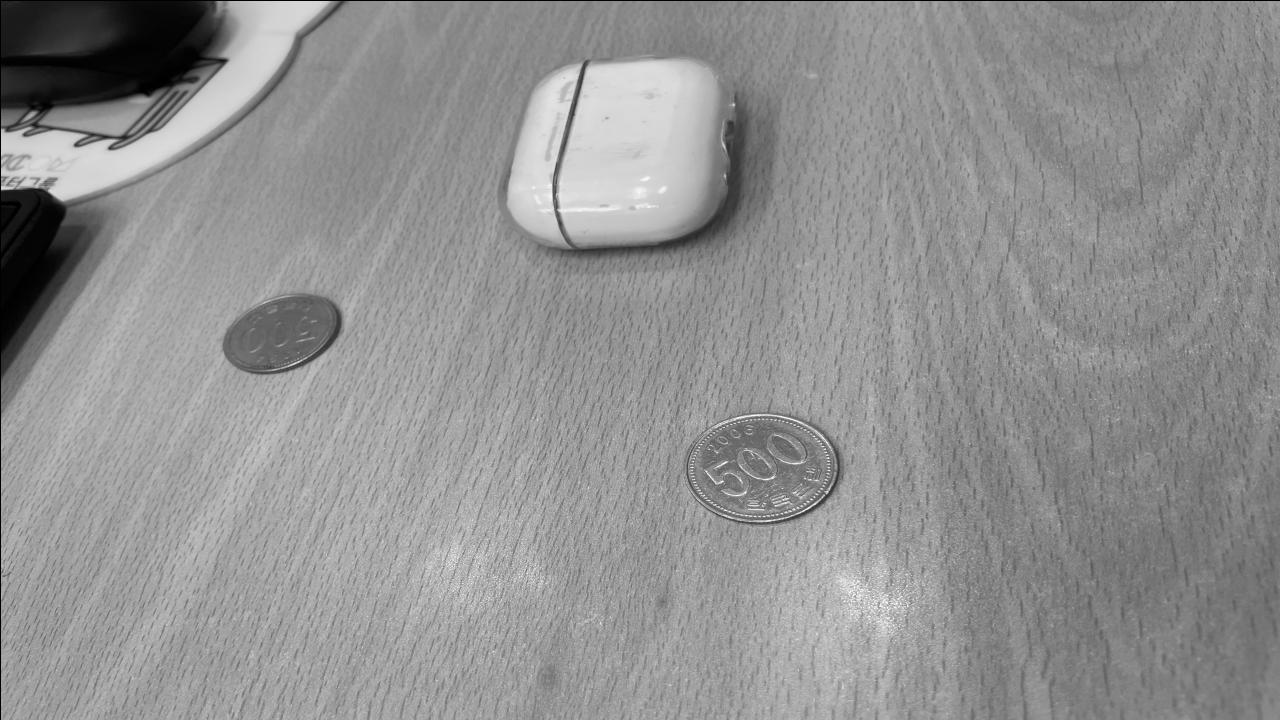coin: (676, 410, 842, 526), (218, 288, 344, 376)
